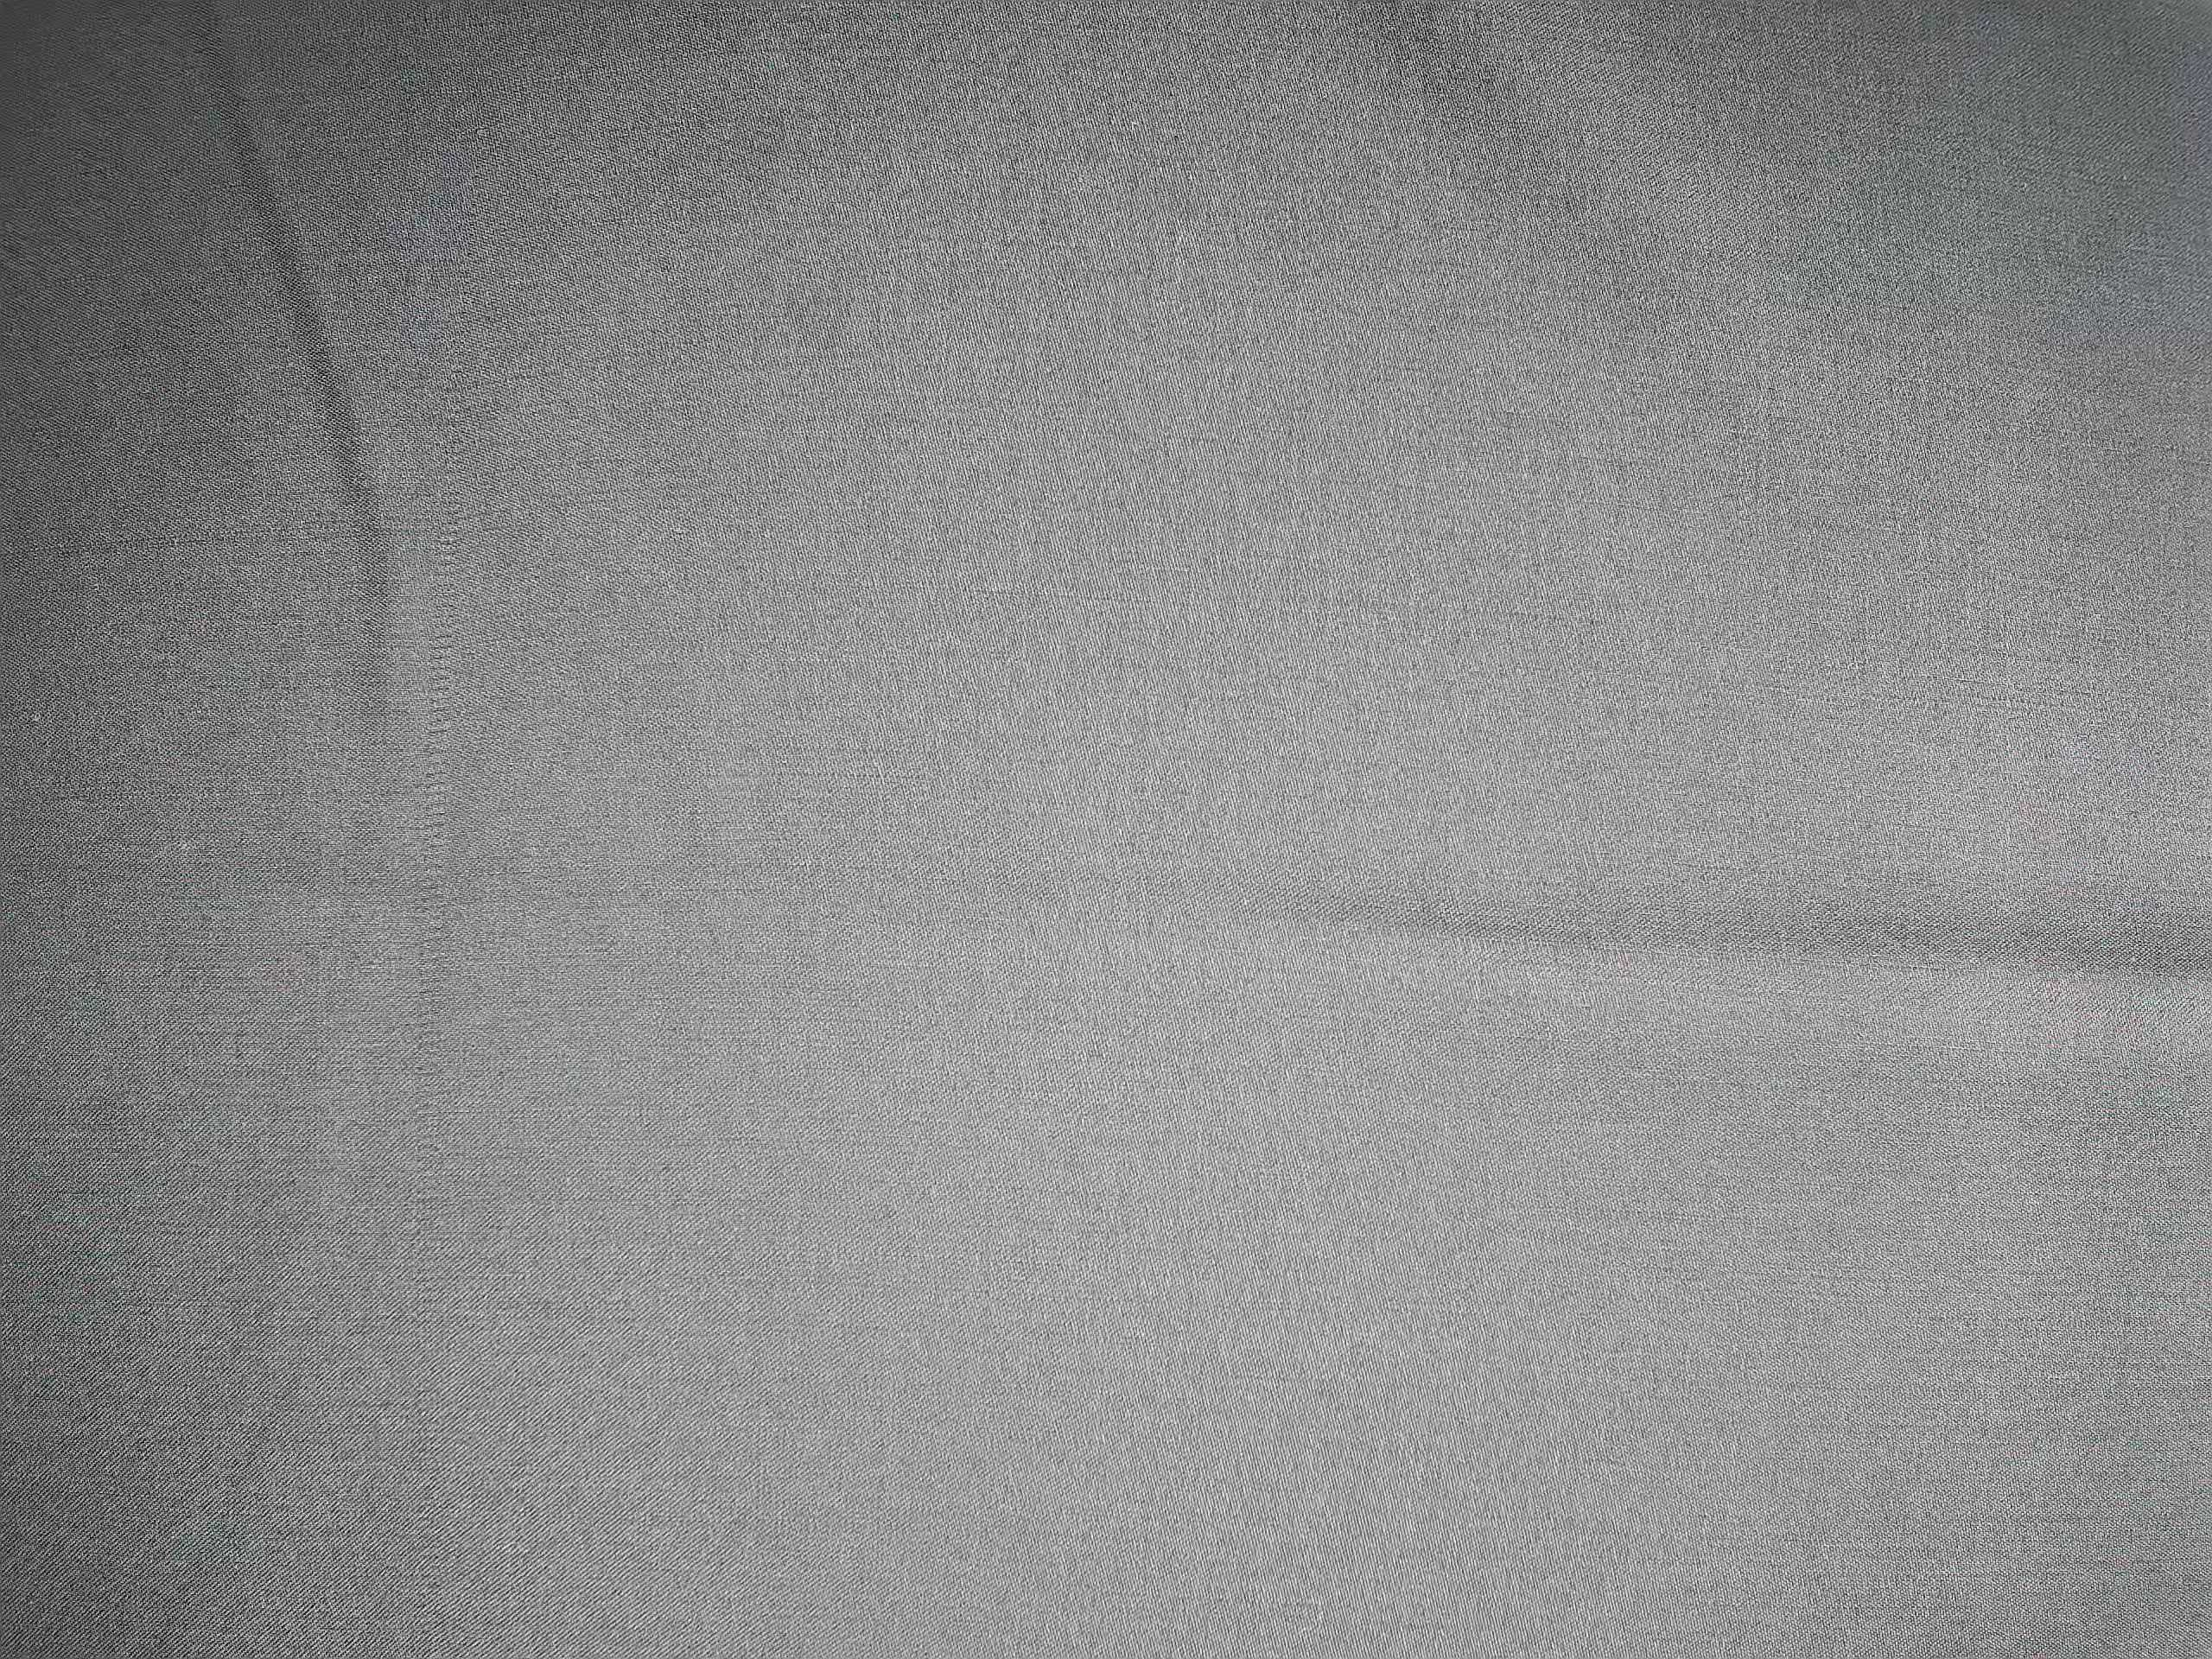hanging-warp: (404, 331, 475, 1626)
